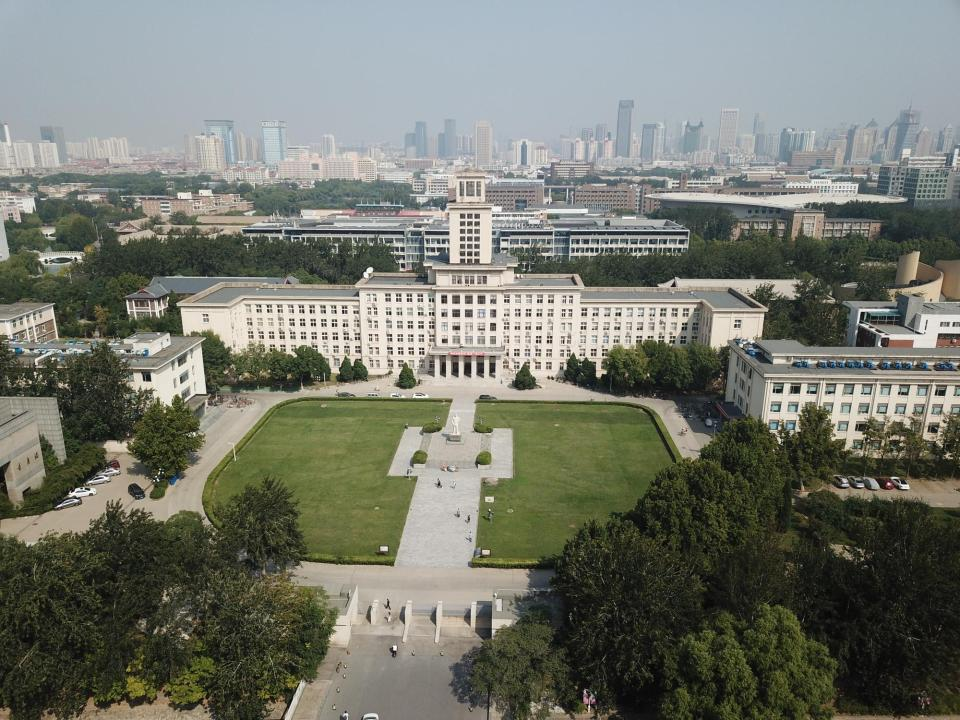car: (52, 496, 82, 510), (84, 473, 112, 486), (67, 486, 97, 498), (128, 483, 146, 500), (95, 467, 121, 478), (890, 476, 910, 489), (832, 474, 850, 488), (875, 477, 894, 490), (862, 477, 880, 490), (848, 475, 865, 488), (104, 459, 121, 469), (479, 395, 497, 402), (411, 393, 429, 400), (388, 393, 406, 400), (338, 392, 356, 399)
van: (365, 392, 382, 399)
